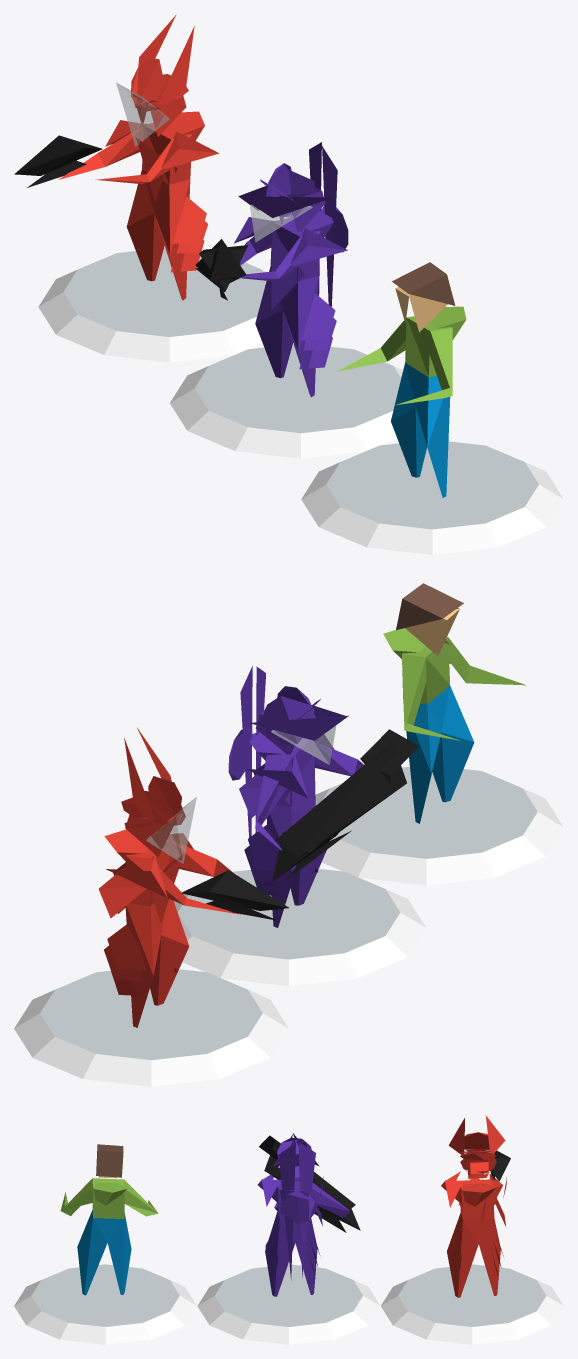
File: Lowest poly sci-fi character.glb
The picture shows the model from 3 angles, top to bottom: view 1: azimuth 30°, elevation 25°; view 2: azimuth 150°, elevation 25°; view 3: azimuth 270°, elevation 25°; orthographic projection. The views are drawn at different scales.
Parts seen in each view (by area): view 1: Node; view 2: Node; view 3: Node.
Boxes of the visible parts, x1,y1,x2,y2 form: Node: (14, 14, 563, 554); Node: (14, 583, 563, 1086); Node: (14, 1115, 563, 1344).
Bounding box in the file's own units: 0.0566 × 0.0592 × 0.15.
